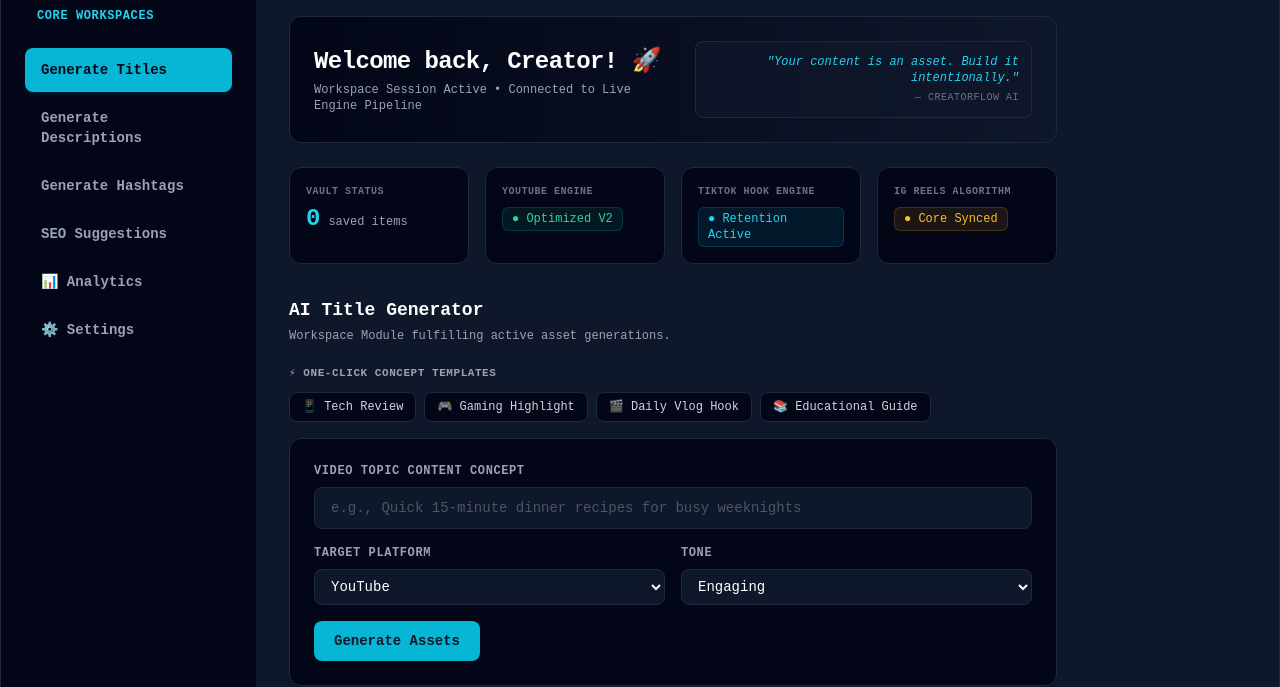
Test: AIToolStudio — AI generation (US-03 to US-06) › SEO Optimizer sends only the topic and renders keywords and recommendations
Click the button "SEO Suggestions": (128, 234) [25,212,232,256]
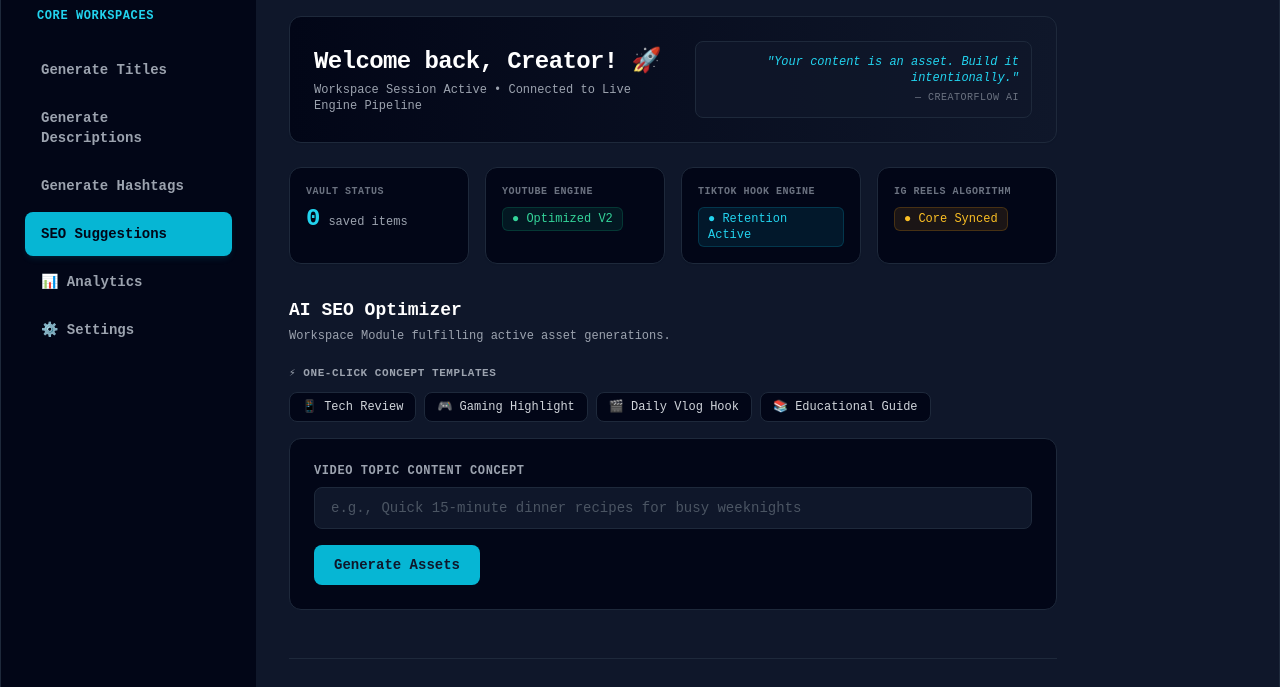
In the field with placeholder "e.g., Quick 15-minute dinner recipes for busy weeknights": (673, 508) [314,487,1032,529], type "beginner guitar lessons"
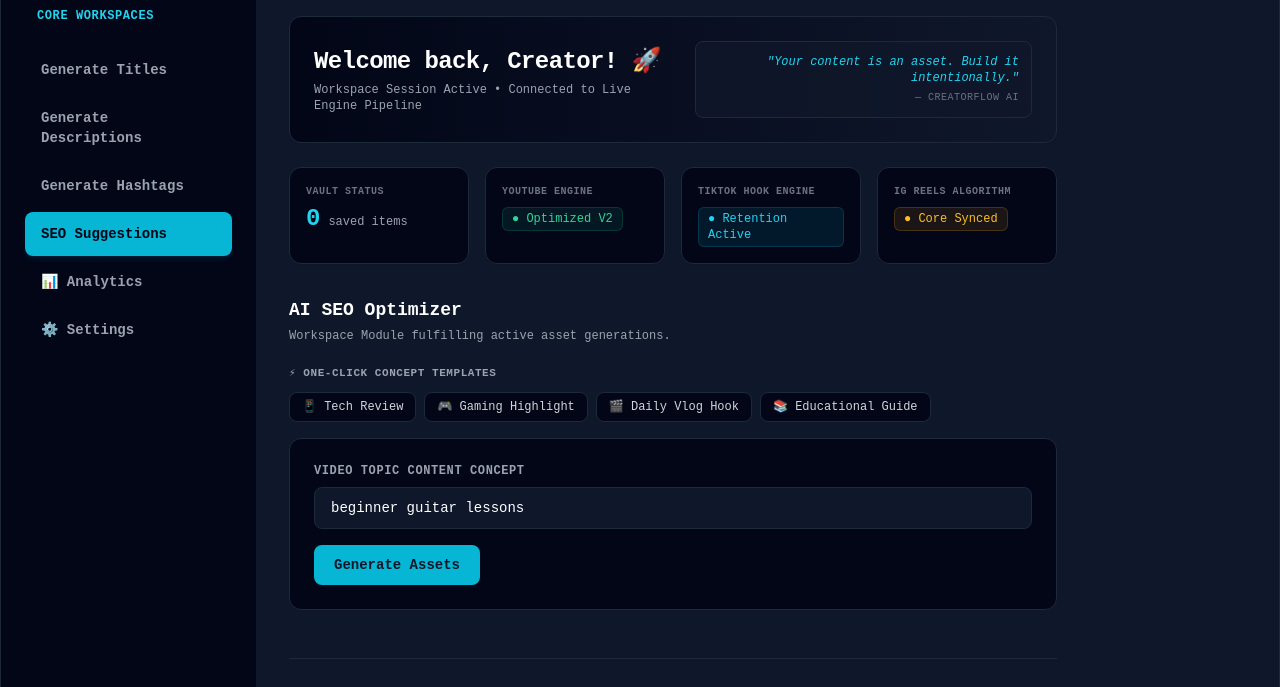
Click the button "Generate Assets": (397, 565) [314,545,480,585]
(page scrolled)
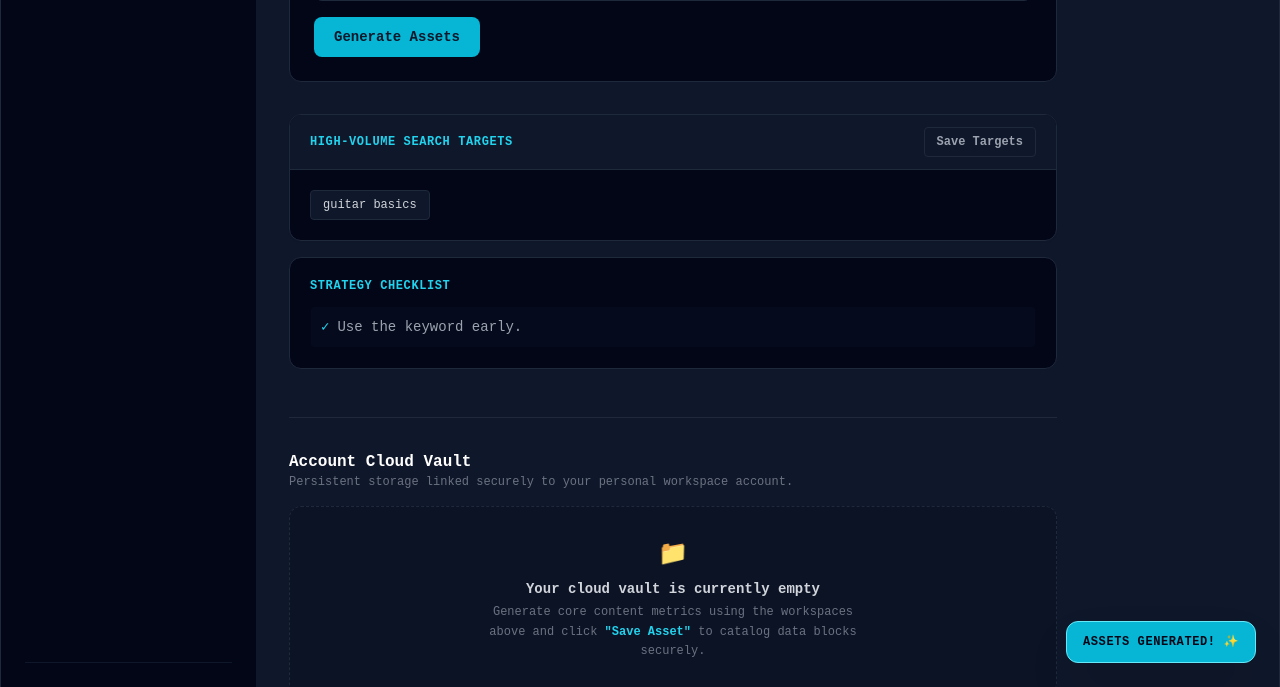
Result: the text "guitar basics" is shown at [310,190,430,220]
Result: the list item "Use the keyword early." is shown at [337,319,522,335]
